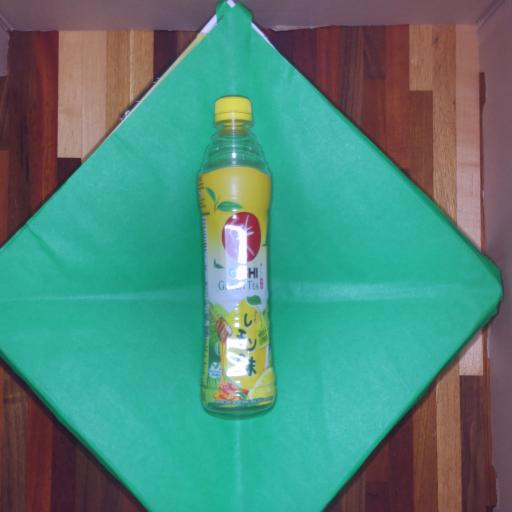bottle: (180, 88, 293, 427)
